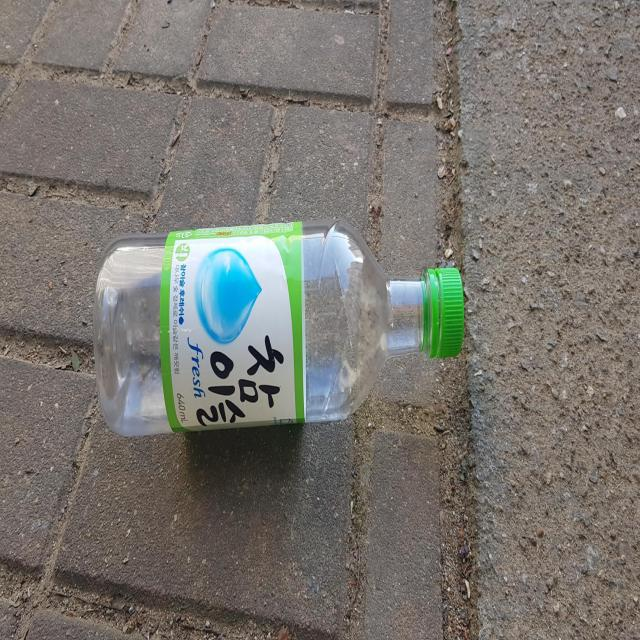plastic: (93, 220, 465, 436)
